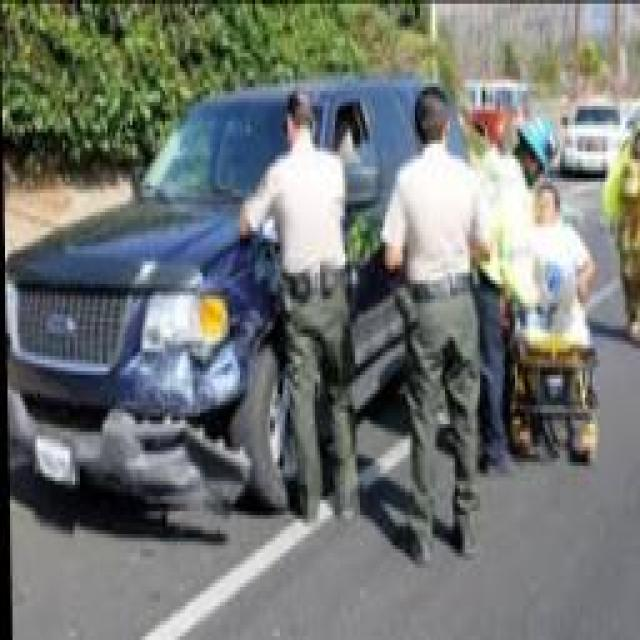Bumper: (8, 386, 252, 526)
Fender: (132, 341, 231, 417)
